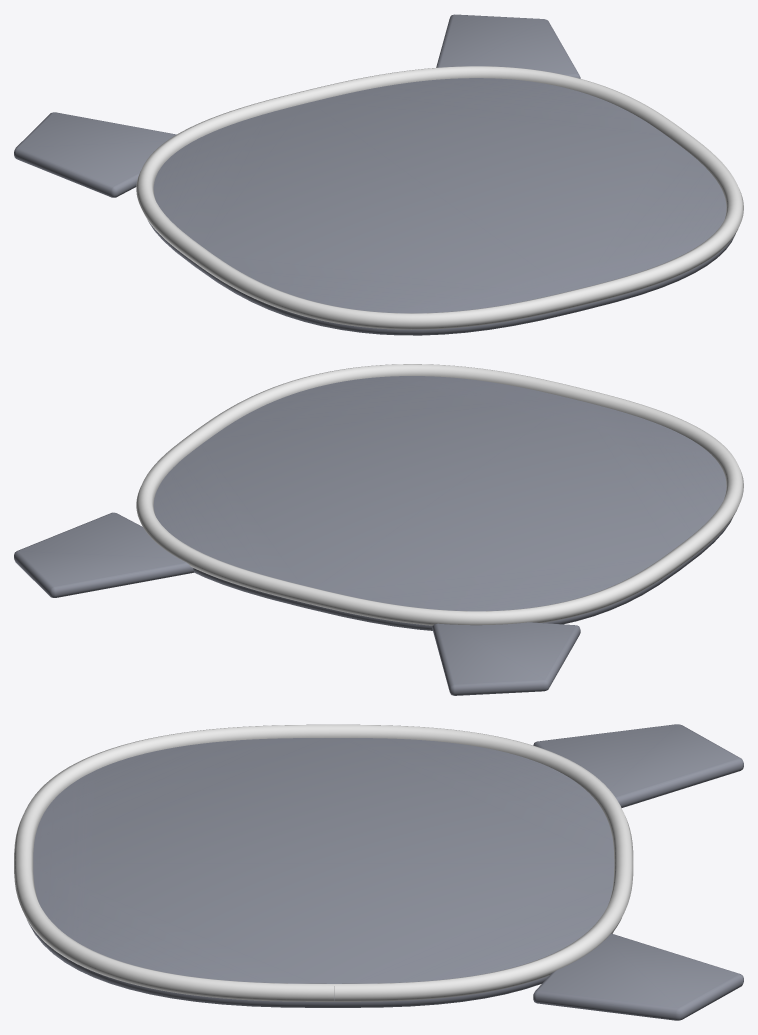
The model's file is pibble_rug.fbx.
The picture shows the model from 3 angles, top to bottom: view 1: azimuth 30°, elevation 25°; view 2: azimuth 150°, elevation 25°; view 3: azimuth 270°, elevation 25°; orthographic projection. The views are drawn at different scales.
Parts seen in each view (by area): view 1: pibble_rug; view 2: pibble_rug; view 3: pibble_rug.
Part boxes in pixels (x1,y1,x2,y2): pibble_rug: (14,14,743,335); pibble_rug: (14,364,743,695); pibble_rug: (14,724,743,1020).
Size of the model in its own units: 7.77 by 0.31 by 8.33.
